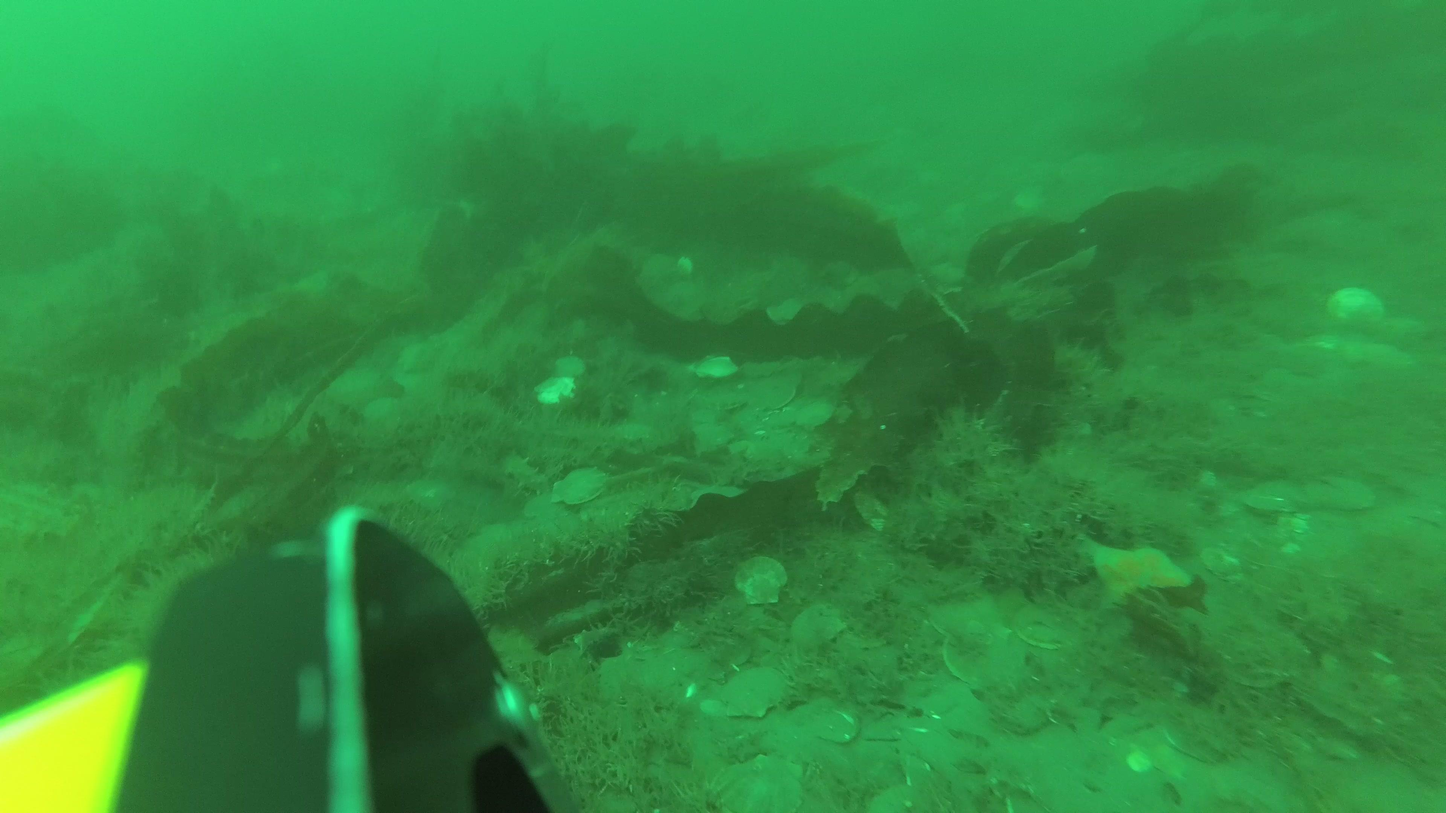echinus: (1319, 278, 1392, 332), (496, 443, 551, 497)
holothurian: (1075, 529, 1200, 619)
scallop: (708, 750, 806, 813), (938, 619, 1027, 688), (1015, 594, 1105, 653), (714, 664, 793, 721), (1241, 472, 1309, 521), (1310, 469, 1378, 515), (730, 553, 789, 606), (789, 603, 849, 649), (551, 466, 609, 508), (811, 705, 863, 744), (747, 376, 804, 411), (393, 336, 441, 377), (532, 373, 581, 413), (692, 355, 745, 382), (690, 420, 736, 449), (554, 354, 586, 383)
